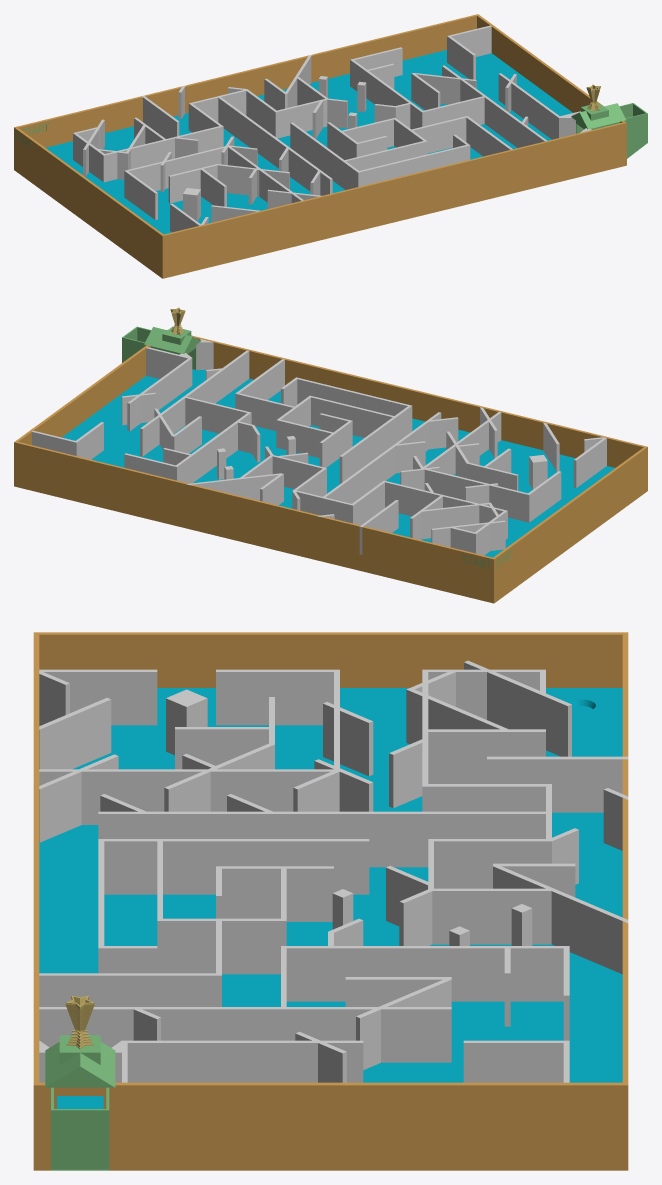
File: mazemap.glb
3 renders of one model, top to bottom at view 1: azimuth 30°, elevation 25°; view 2: azimuth 150°, elevation 25°; view 3: azimuth 270°, elevation 25°, orthographic. The views are drawn at different scales.
Parts seen in each view (by area): view 1: Mesh_Mesh_head_geo.001_lambert2SG.001; view 2: Mesh_Mesh_head_geo.001_lambert2SG.001; view 3: Mesh_Mesh_head_geo.001_lambert2SG.001.
Part boxes in pixels (box(x1,y1,x2,y2)): Mesh_Mesh_head_geo.001_lambert2SG.001: box(14, 14, 647, 278); Mesh_Mesh_head_geo.001_lambert2SG.001: box(14, 307, 647, 603); Mesh_Mesh_head_geo.001_lambert2SG.001: box(33, 632, 628, 1170).
Bounding box in the file's own units: 192 × 28 × 101.
